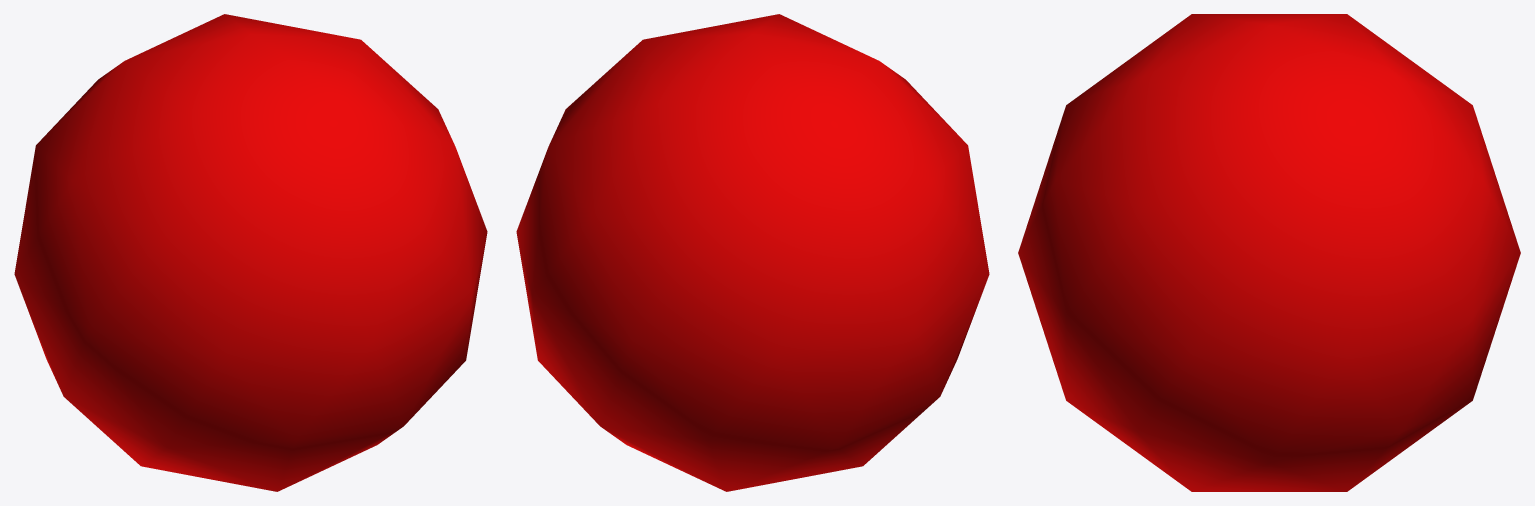
3 views of the same model, side by side, from view 1: azimuth 30°, elevation 25°; view 2: azimuth 150°, elevation 25°; view 3: azimuth 270°, elevation 25° (orthographic). The views are drawn at different scales.
Parts seen in each view (by area): view 1: NODE; view 2: NODE; view 3: NODE.
Part boxes in pixels (left/top/right/bottom): NODE: left=14, top=14, right=487, bottom=491; NODE: left=516, top=14, right=989, bottom=491; NODE: left=1018, top=14, right=1520, bottom=491.
Bounding box in the file's own units: 0.5706 × 0.6 × 0.6.
